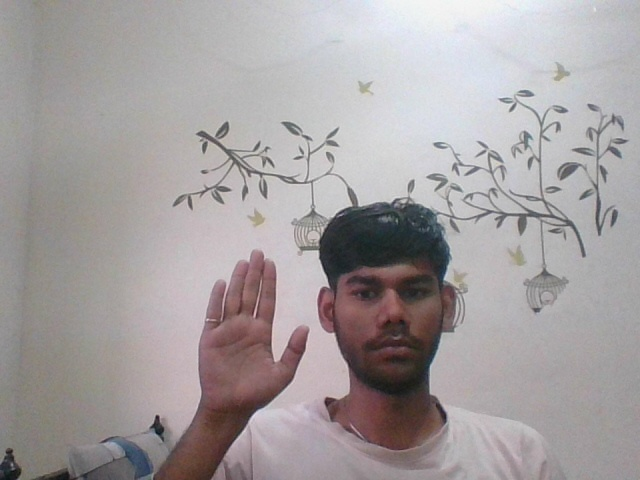Hello: (180, 247, 316, 406)
